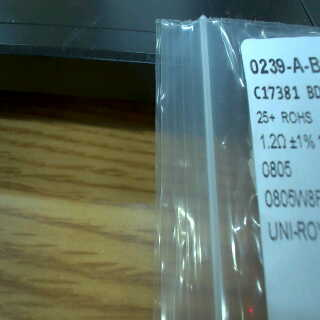1.2R: (257, 125, 293, 182)
